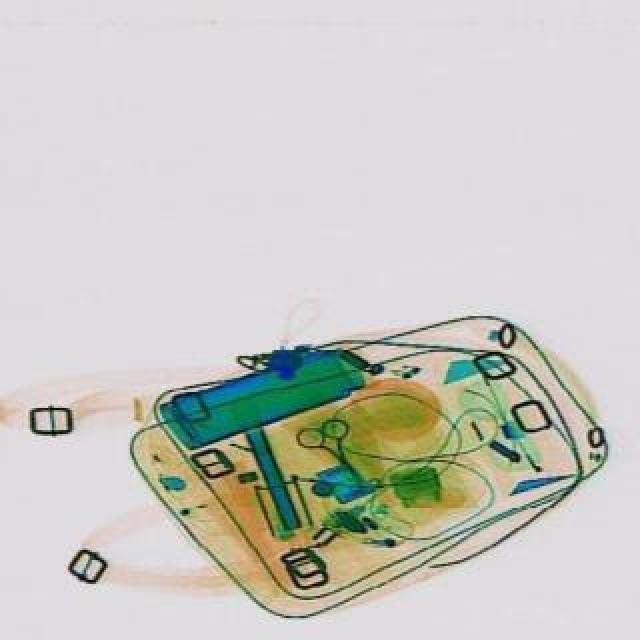pliers: (292, 410, 380, 502)
